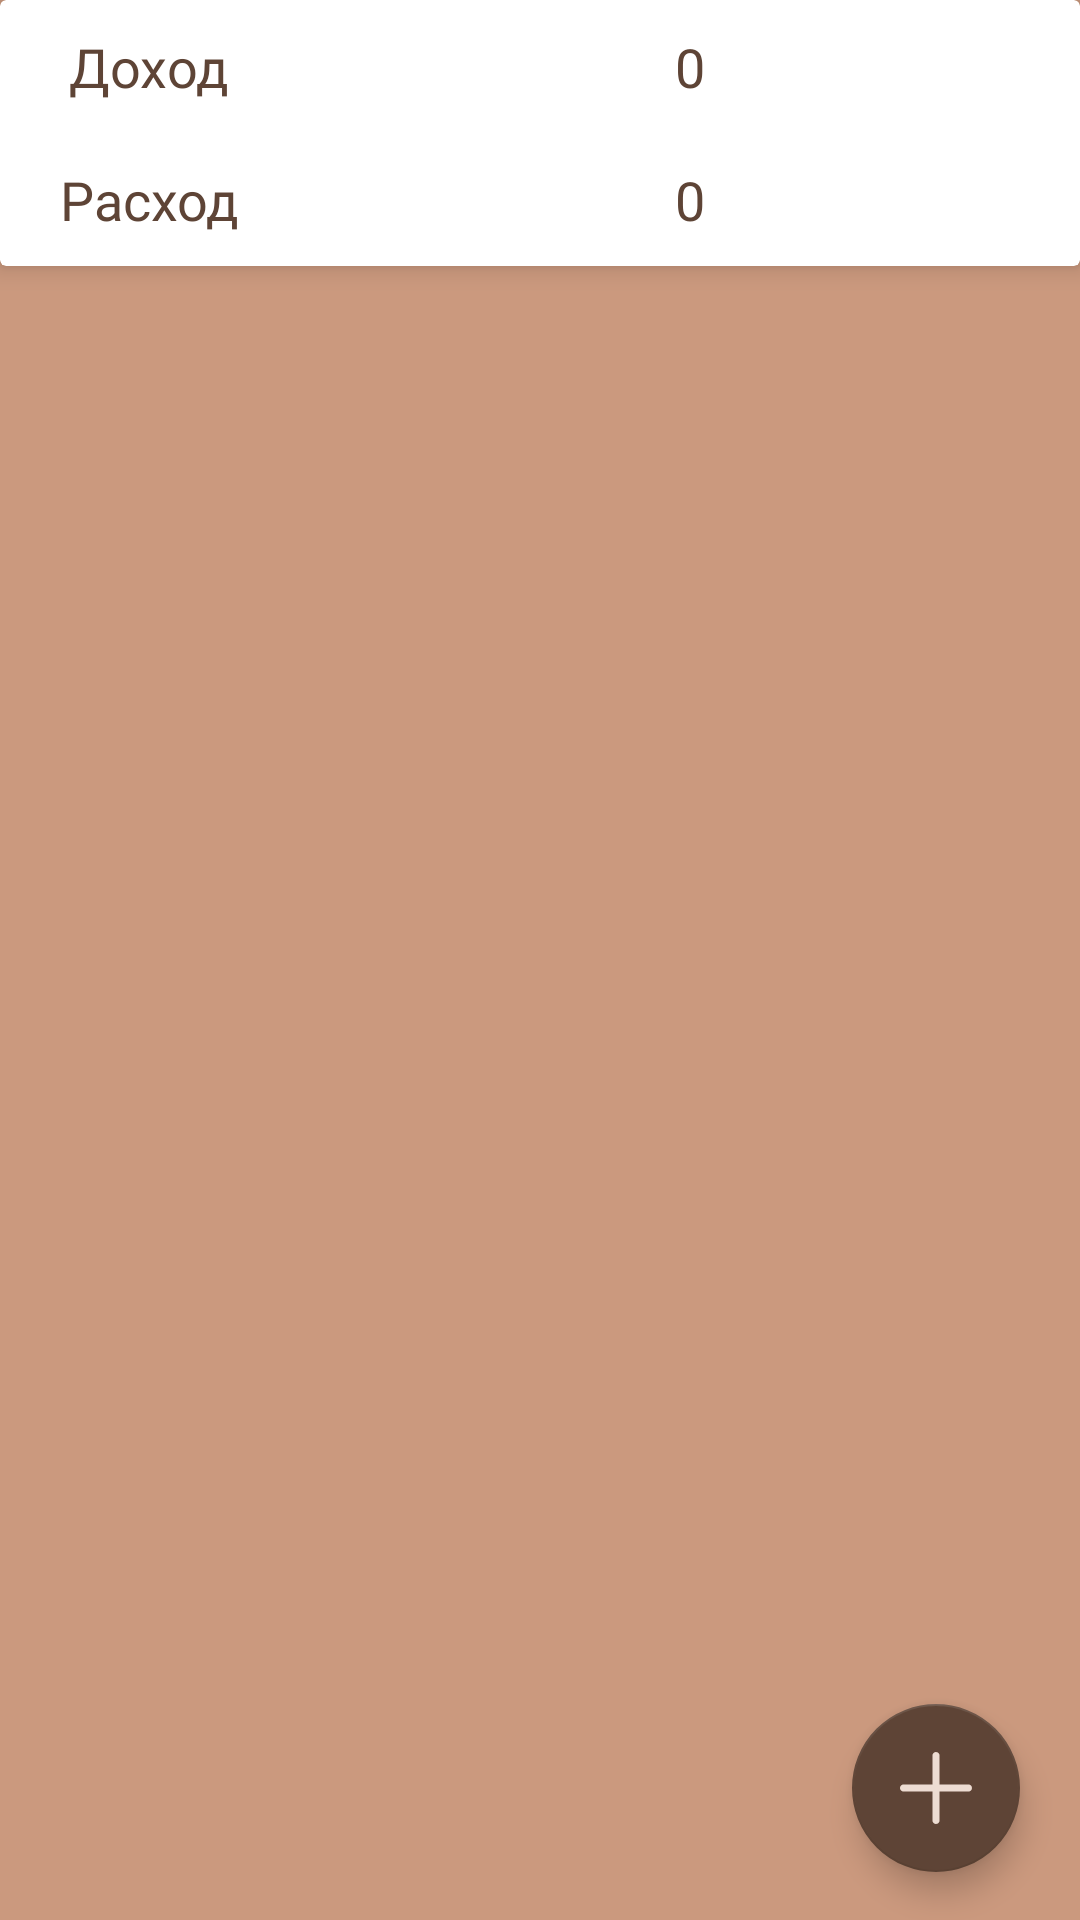

Point at icon controls on the screen. Image size 1080*1920, points as point (x, y).
plus: point (936, 1788)
